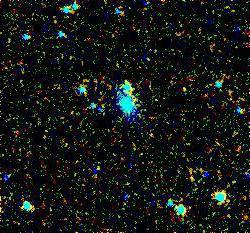star: (170, 75, 200, 105)
